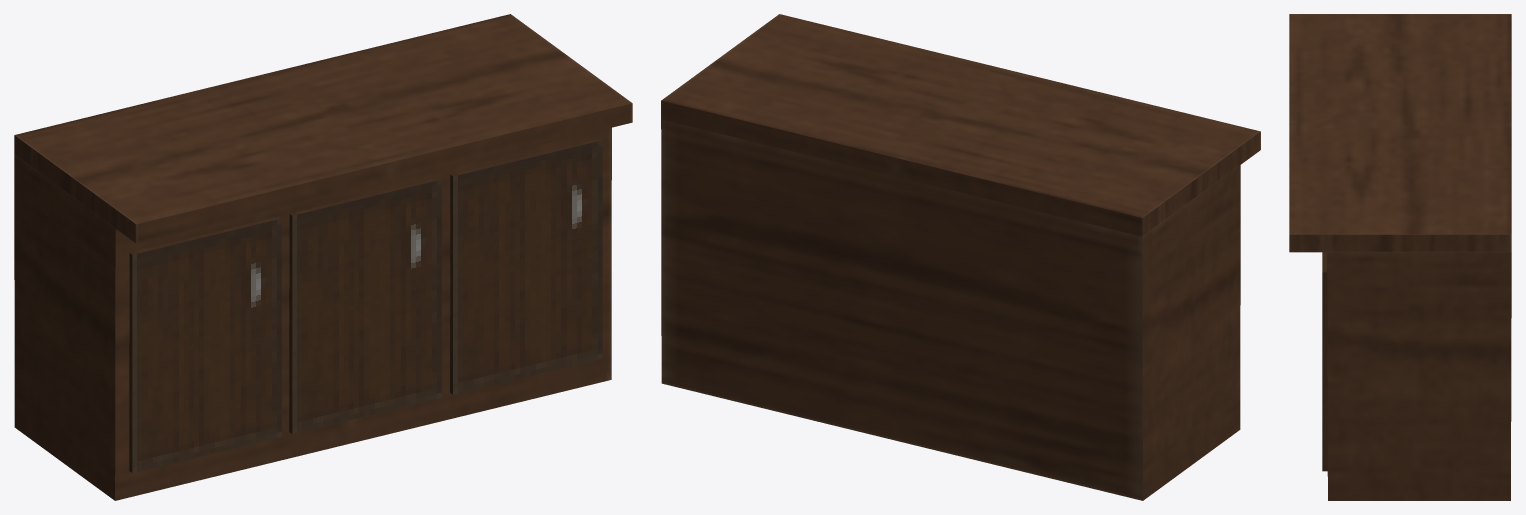
File: nizhn_shkaf_kuhnya (2).fbx
3 views of the same model, side by side, from view 1: azimuth 30°, elevation 25°; view 2: azimuth 150°, elevation 25°; view 3: azimuth 270°, elevation 25° (orthographic). The views are drawn at different scales.
Parts seen in each view (by area): view 1: Main_Wood_Frame, Doors, Doors.001, Doors.002; view 2: Main_Wood_Frame; view 3: Main_Wood_Frame, Doors.002.
Boxes of the visible parts, box(x1,y1,x2,y2) form: Main_Wood_Frame: box(14, 14, 632, 500); Doors: box(129, 216, 281, 472); Doors.001: box(289, 177, 441, 433); Doors.002: box(450, 138, 602, 394); Main_Wood_Frame: box(661, 14, 1260, 500); Main_Wood_Frame: box(1289, 14, 1511, 500); Doors.002: box(1322, 252, 1327, 471).
Bounding box in the file's own units: 164 × 92.44 × 70.
Materials: 2 (2 with a texture image).
